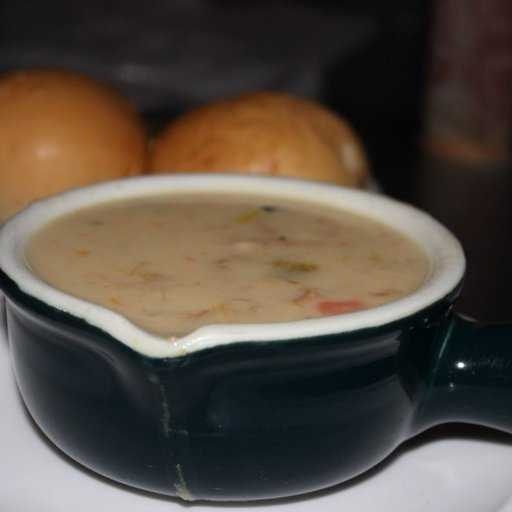soup: (9, 187, 449, 368)
